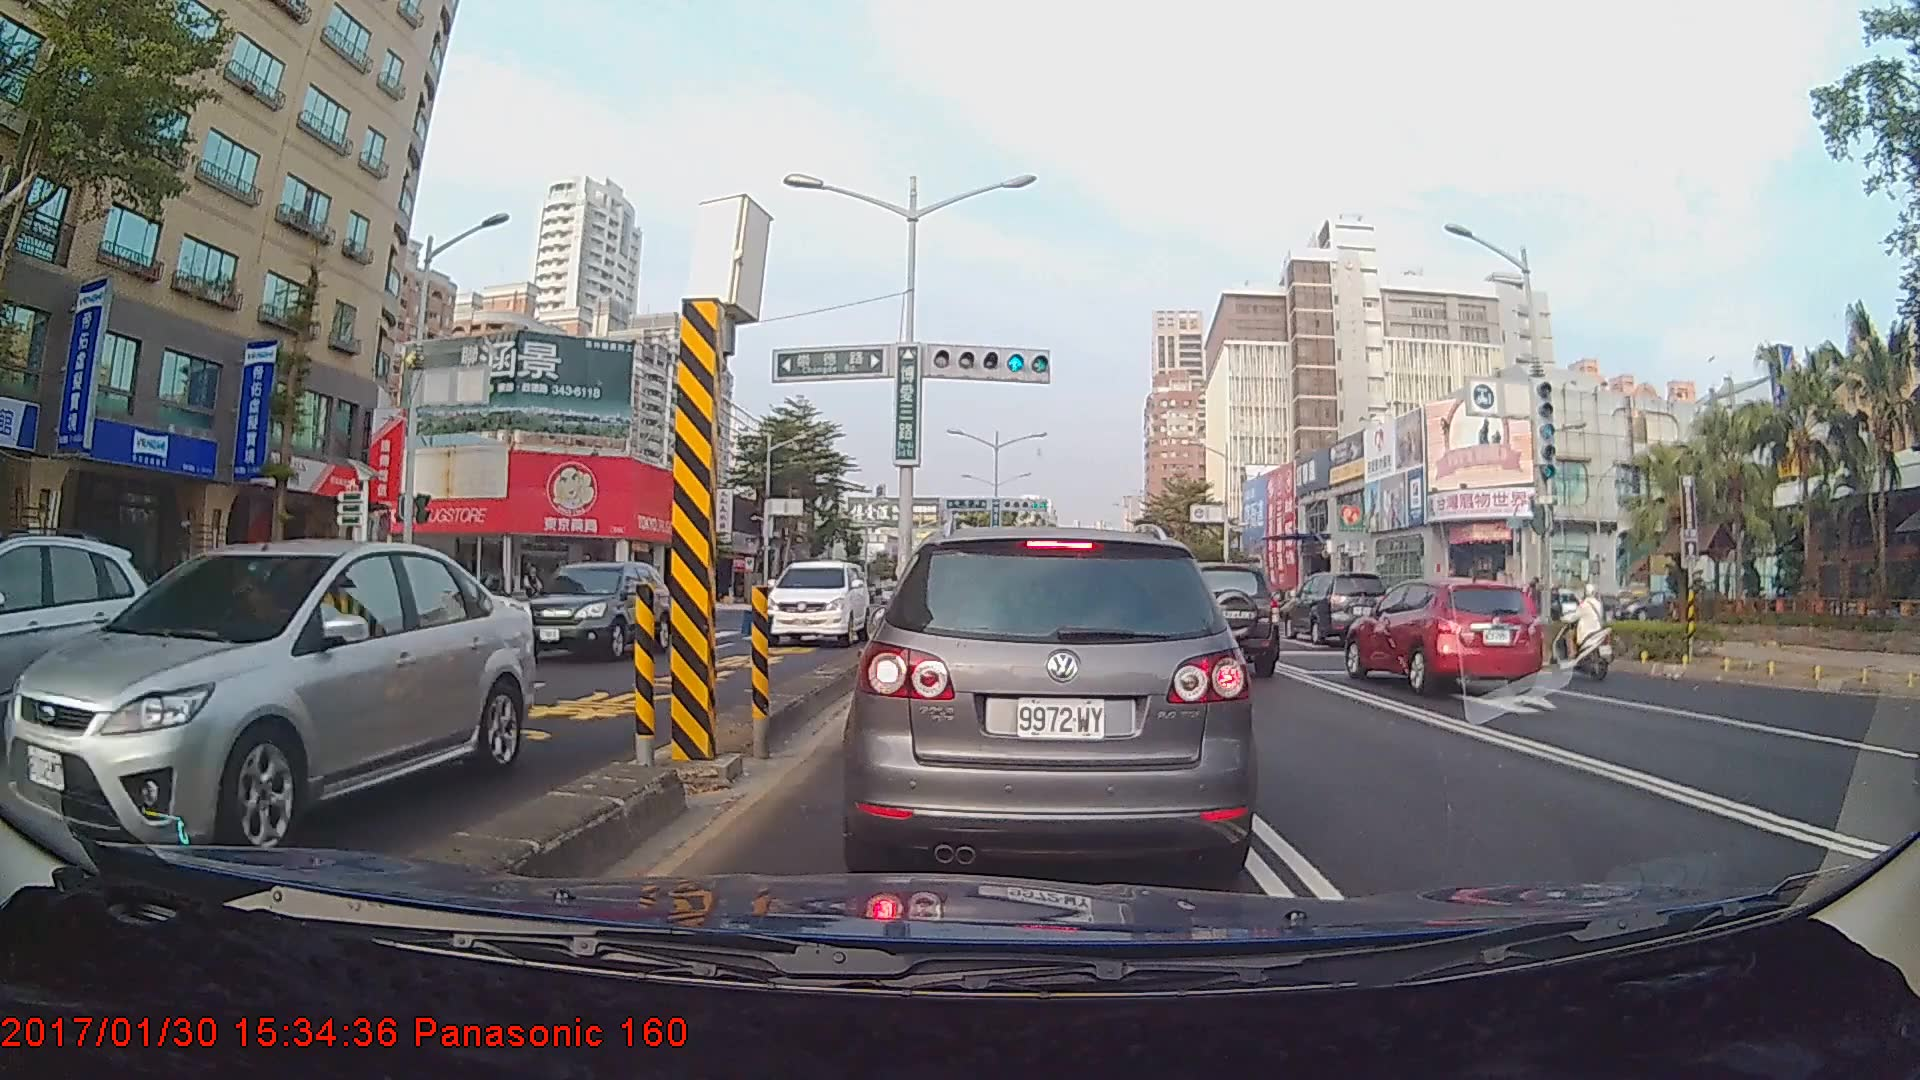rider: (1540, 586, 1611, 688)
vehicle: (1, 537, 534, 866), (855, 524, 1245, 878), (0, 528, 149, 774), (1345, 577, 1544, 696), (511, 560, 674, 662), (1152, 560, 1283, 679), (758, 556, 872, 643), (1281, 569, 1389, 645)
